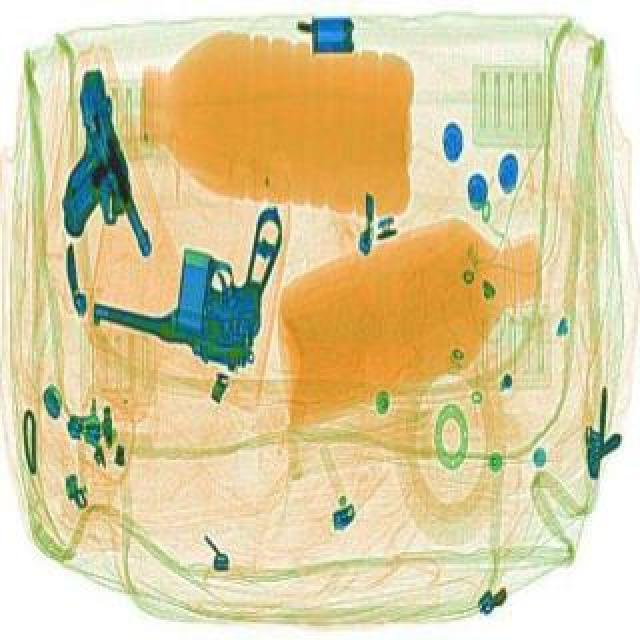gun: (82, 176, 286, 368), (26, 64, 154, 266)
